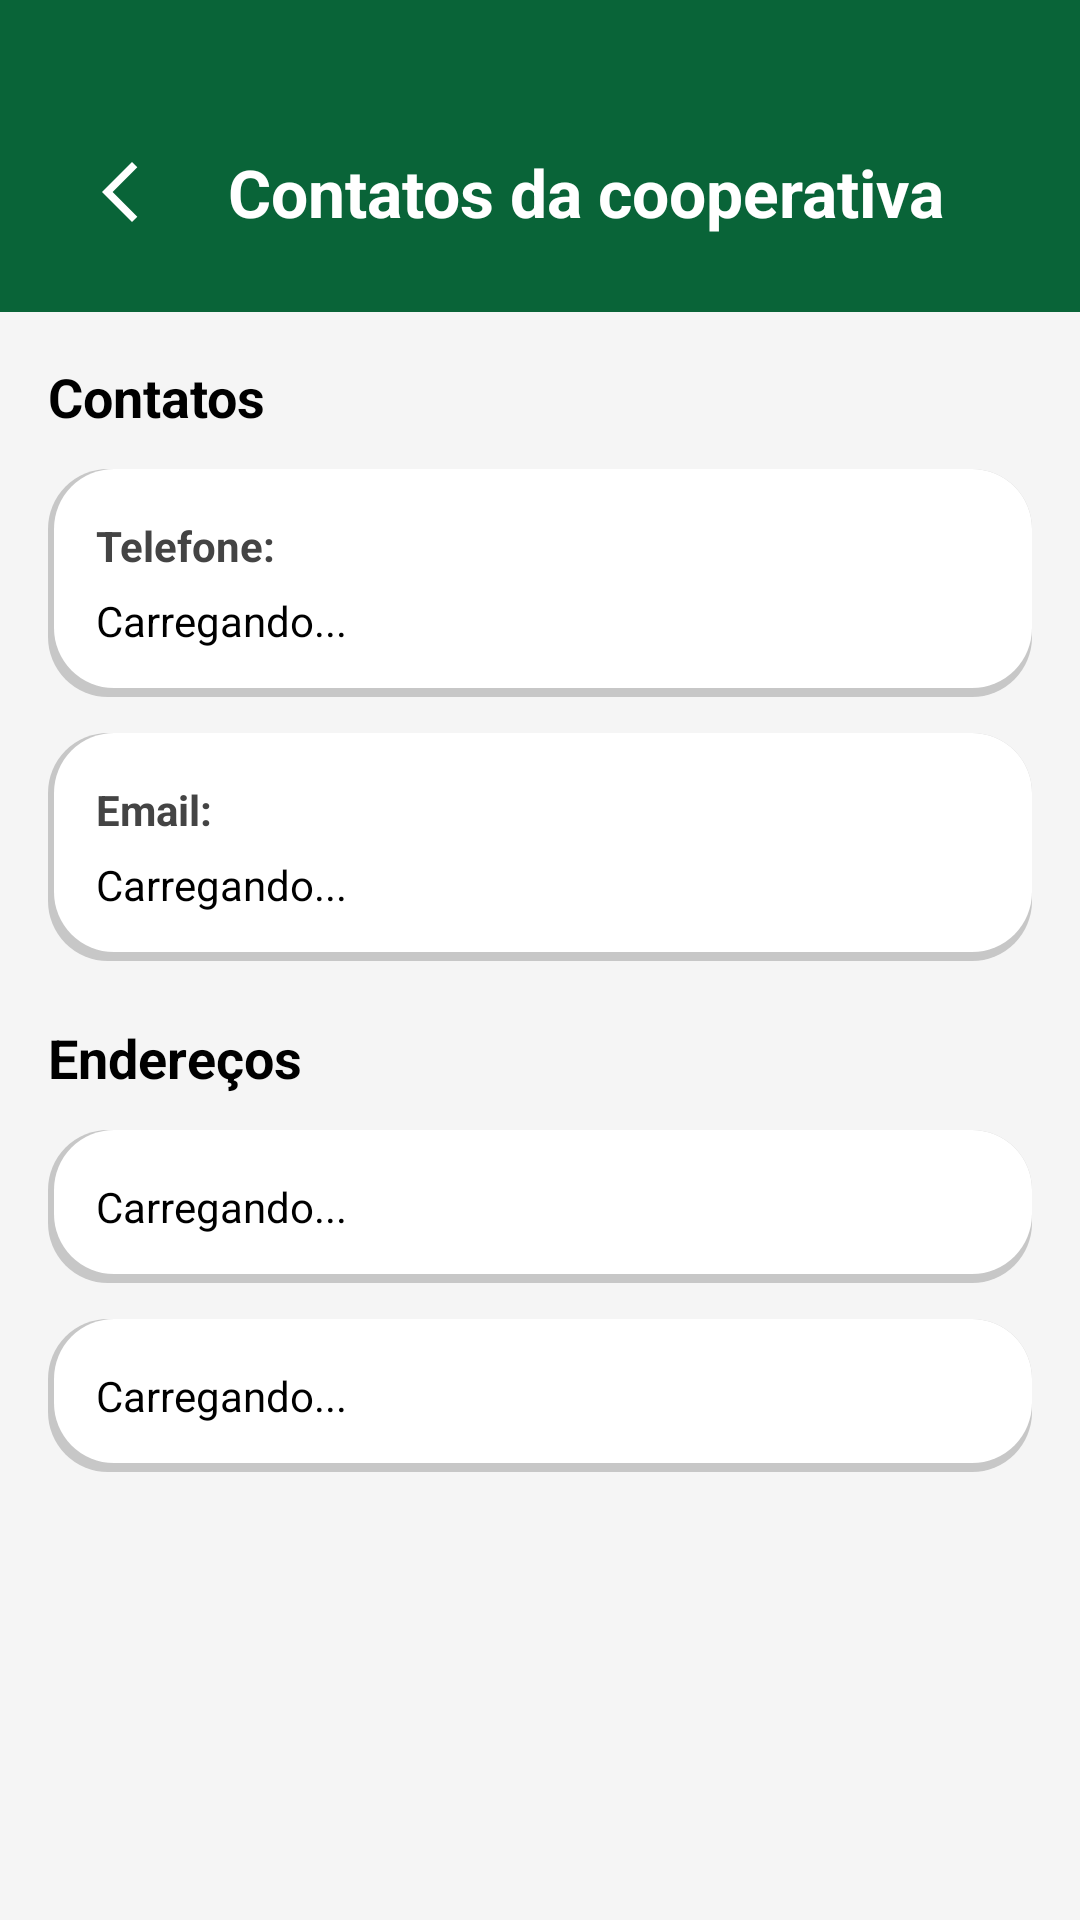

Point at icon controls on the screen. Image size 1080 x 1920, points as (x=x, y=y).
Voltar: (x=119, y=192)
